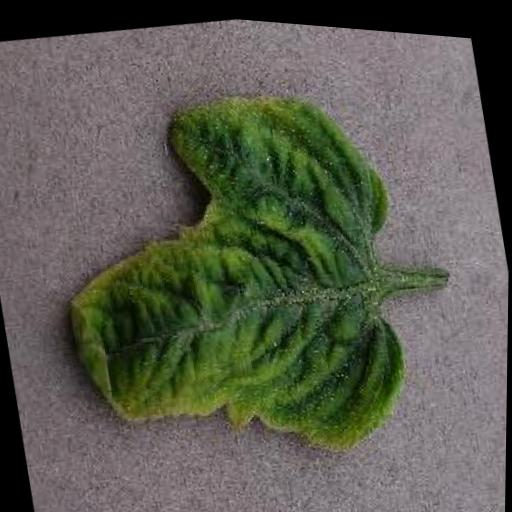Yellow Leaf Curl Virus: (33, 52, 429, 491)
